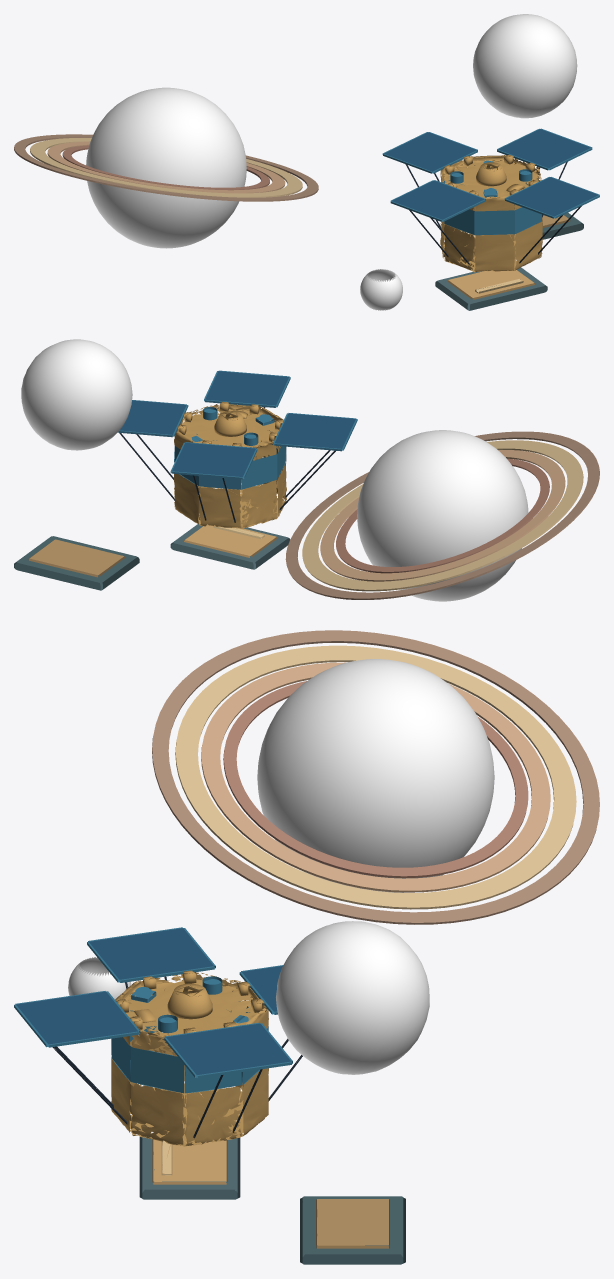
Rendered from saturno-lunas.obj.
3 views of the same model, one above another, from view 1: azimuth 30°, elevation 25°; view 2: azimuth 150°, elevation 25°; view 3: azimuth 270°, elevation 25° (orthographic). The views are drawn at different scales.
Parts seen in each view (by area): view 1: saturno-lunas; view 2: saturno-lunas; view 3: saturno-lunas.
Boxes of the visible parts, x1,y1,x2,y2 form: saturno-lunas: (14, 14, 599, 310); saturno-lunas: (14, 339, 599, 601); saturno-lunas: (14, 630, 599, 1264).
Bounding box in the file's own units: 1.48 × 0.571 × 0.9676.
